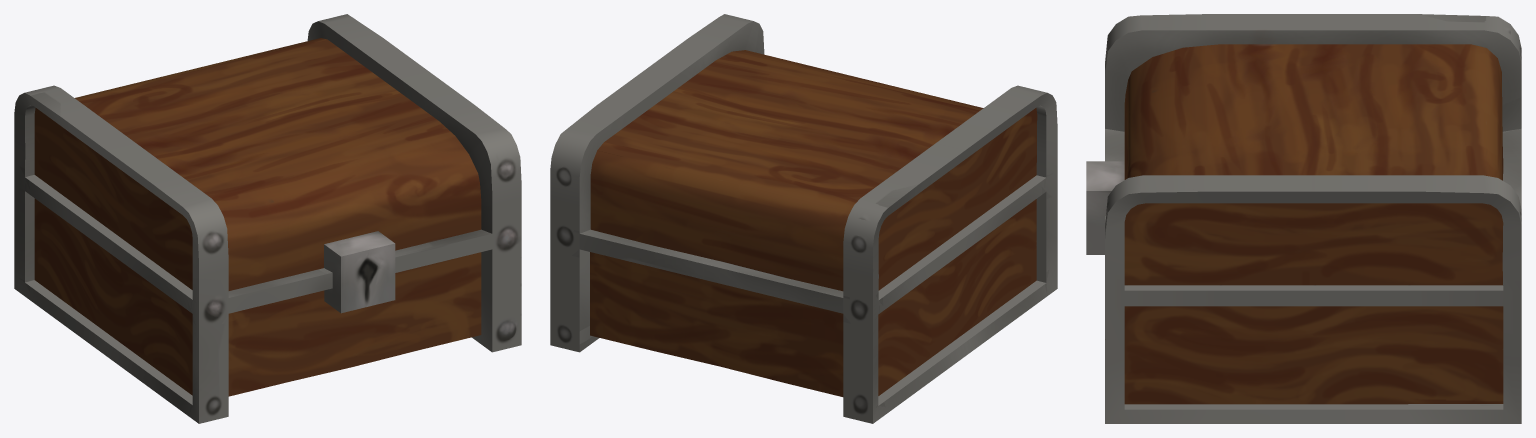
File: tresure_chest_-_game_art_asset_practice.glb
The picture shows the model from 3 angles, left to right: view 1: azimuth 30°, elevation 25°; view 2: azimuth 150°, elevation 25°; view 3: azimuth 270°, elevation 25°; orthographic projection. The views are drawn at different scales.
Visible parts, largest first — view 1: low_chest; view 2: low_chest; view 3: low_chest.
Part boxes in pixels (<box>): low_chest: <box>14,14,521,423</box>; low_chest: <box>550,14,1057,423</box>; low_chest: <box>1086,14,1521,423</box>.
Size of the model in its own units: 1.56 by 0.9533 by 1.62.
Materials: 1 (1 with a texture image).
